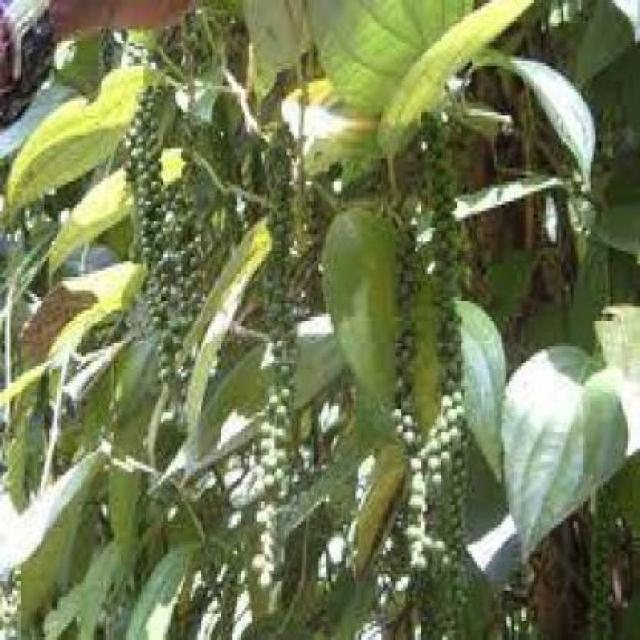UNRIPE: (122, 66, 208, 372), (256, 130, 305, 413), (420, 109, 468, 389), (431, 412, 468, 634), (388, 222, 423, 449), (588, 469, 620, 628), (220, 545, 240, 637)
